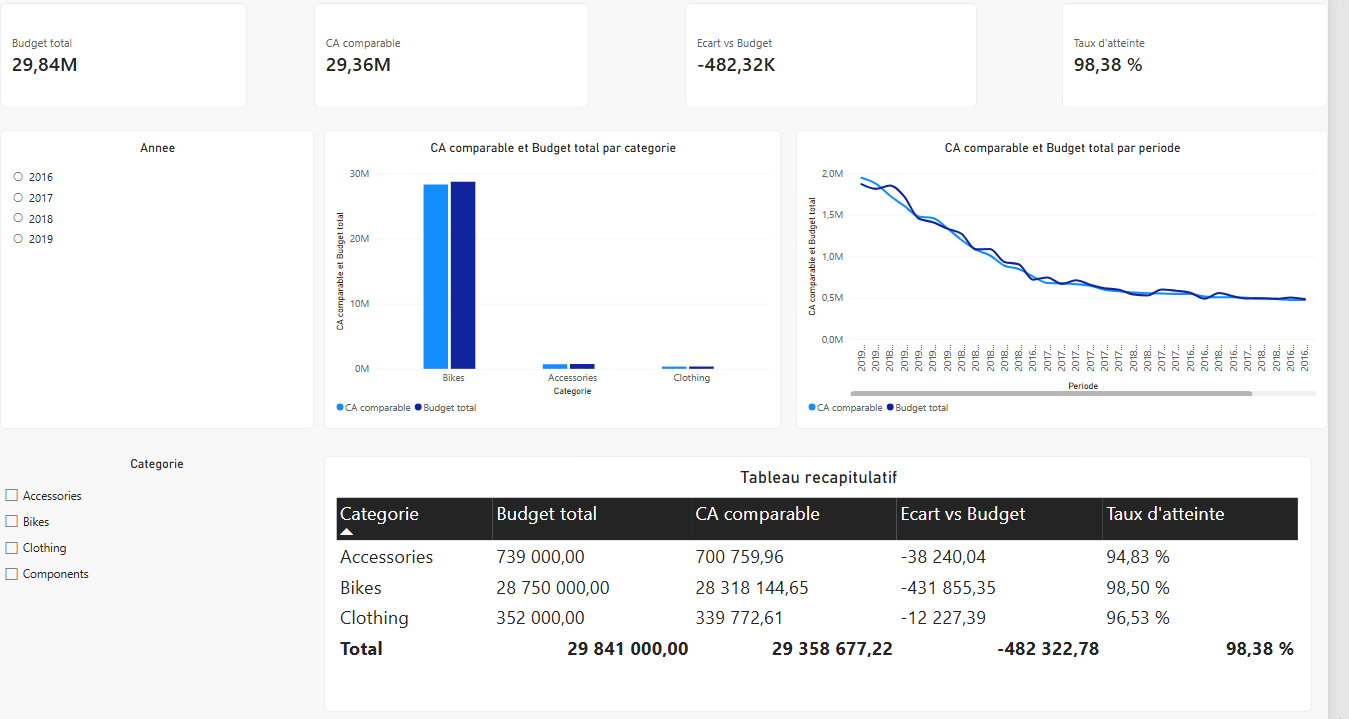

This screenshot's page, from the dashboard's own definition file:
{"tool":"powerbi","page":{"name":"Budget","canvas":[1920,1080],"ordinal":1},"visuals":[{"type":"cardVisual","fields":{"Data":["Budget.Budget total"]},"box":[0,13,357.1,151.8],"z":0},{"type":"cardVisual","fields":{"Data":["Budget.CA comparable"]},"box":[454,13,397.6,151.8],"z":1000},{"type":"cardVisual","fields":{"Data":["Budget.Ecart vs Budget"]},"box":[990.4,13,422.2,151.8],"z":2000},{"type":"cardVisual","fields":{"Data":["Budget.Taux d'atteinte"]},"box":[1535.4,13,384.6,151.8],"z":3000},{"type":"clusteredColumnChart","title":"CA comparable et Budget total par categorie","fields":{"Category":["dimProductCategory.EnglishProductCategoryName"],"Y":["Budget.CA comparable","Budget.Budget total"]},"box":[468.4,196.6,660.7,432.3],"z":4000},{"type":"lineChart","title":"CA comparable et Budget total par periode","fields":{"Category":["Calendar.Period"],"Y":["Budget.CA comparable","Budget.Budget total"]},"box":[1150.8,196.6,769.2,432.3],"z":5000},{"type":"tableEx","title":"Tableau recapitulatif","fields":{"Values":["dimProductCategory.EnglishProductCategoryName","Budget.Budget total","Budget.CA comparable","Budget.Ecart vs Budget","Budget.Taux d'atteinte"]},"box":[468.4,668,1428.4,370.1],"z":6000},{"type":"listSlicer","title":"Annee","fields":{"Values":["Calendar.CalendarYear"]},"box":[0,196.6,454,432.3],"z":7000},{"type":"slicer","title":"Categorie","fields":{"Values":["dimProductCategory.EnglishProductCategoryName"]},"box":[0,668,454,370.1],"z":8000}]}

Visuals, with their boxes on the page's 1920x1080 design canvas (x1, y1, x2, y2). These are canvas units, not pixel positions in the 1349x719 screenshot, which may show the page scaled, cropped or inside an application window:
cardVisual - Budget.Budget total: l=0, t=13, r=357, b=165
cardVisual - Budget.CA comparable: l=454, t=13, r=852, b=165
cardVisual - Budget.Ecart vs Budget: l=990, t=13, r=1413, b=165
cardVisual - Budget.Taux d'atteinte: l=1535, t=13, r=1920, b=165
"CA comparable et Budget total par categorie" clusteredColumnChart: l=468, t=197, r=1129, b=629
"CA comparable et Budget total par periode" lineChart: l=1151, t=197, r=1920, b=629
"Tableau recapitulatif" tableEx: l=468, t=668, r=1897, b=1038
"Annee" listSlicer: l=0, t=197, r=454, b=629
"Categorie" slicer: l=0, t=668, r=454, b=1038
